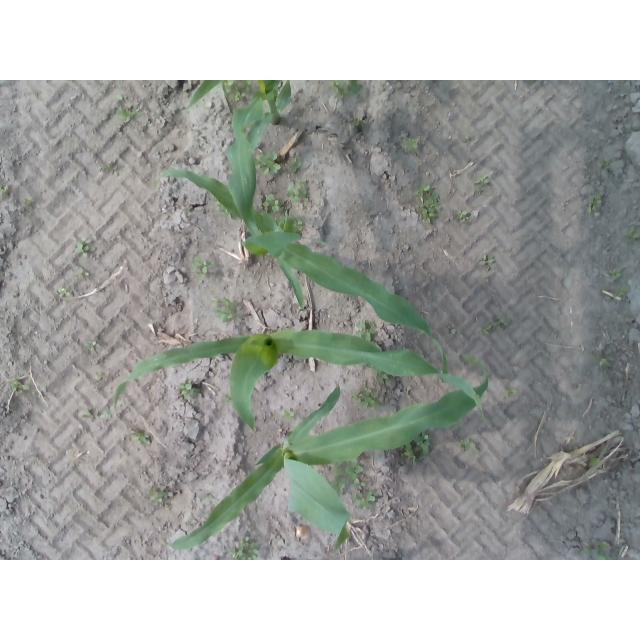Maize: (160, 91, 448, 374), (166, 352, 489, 553), (115, 331, 485, 430), (184, 80, 292, 124)
Weeds: (417, 185, 441, 223), (235, 537, 257, 560), (333, 80, 364, 96), (358, 388, 379, 409), (215, 299, 237, 319), (355, 491, 379, 509), (260, 152, 280, 172), (288, 183, 308, 201), (75, 238, 93, 257), (263, 195, 282, 213), (358, 323, 379, 337), (461, 437, 479, 453), (192, 260, 214, 273), (485, 320, 507, 333), (347, 465, 365, 479), (152, 490, 172, 502), (180, 382, 200, 394), (333, 475, 348, 489), (141, 431, 155, 445), (119, 110, 134, 123), (505, 388, 519, 401), (102, 163, 118, 174), (13, 381, 30, 391), (417, 438, 431, 450), (480, 256, 492, 269), (407, 138, 420, 150), (290, 159, 302, 172), (592, 195, 603, 209), (629, 227, 640, 241), (407, 445, 417, 459), (598, 159, 610, 170), (476, 175, 489, 185), (601, 541, 612, 552), (293, 221, 305, 231), (59, 290, 73, 298), (459, 210, 469, 221), (615, 288, 625, 298), (79, 266, 88, 277), (89, 338, 100, 347), (590, 458, 600, 467), (283, 408, 293, 417), (598, 359, 610, 366), (378, 371, 387, 380), (1, 185, 9, 195), (87, 411, 98, 418), (26, 199, 35, 207), (612, 270, 620, 279)
